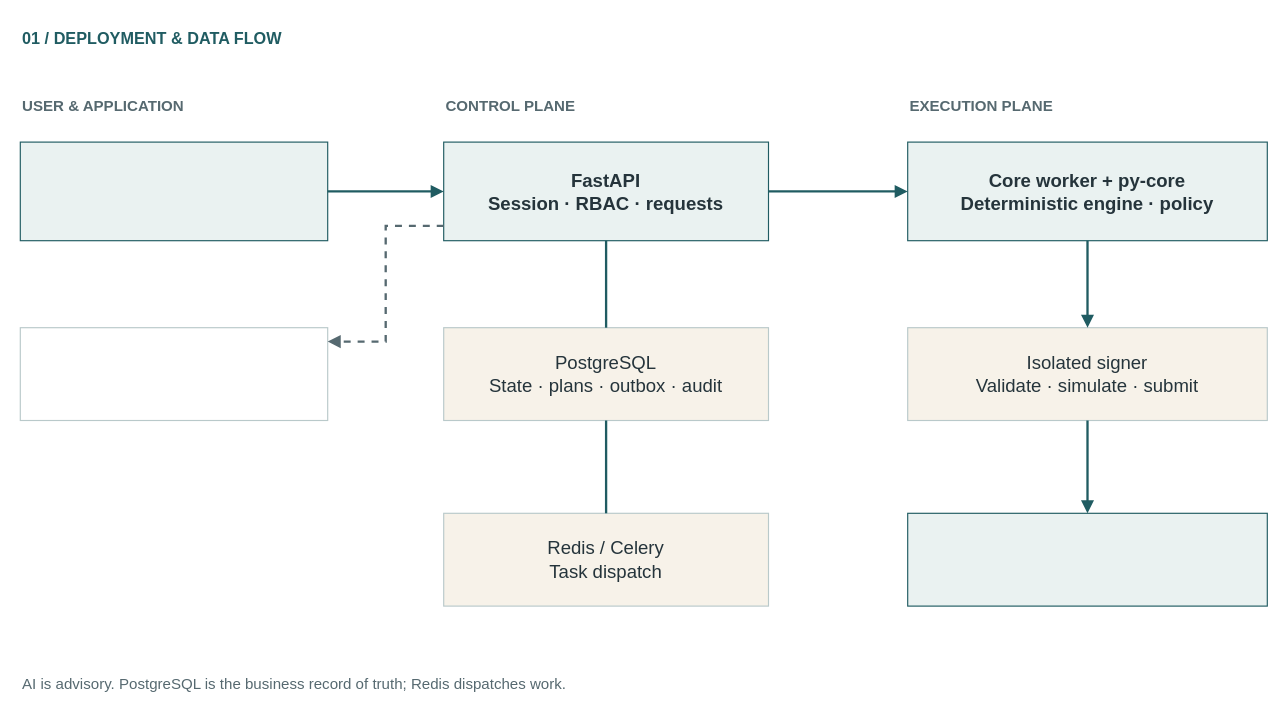
This 1288x728 diagram has some shape labels left out. The shapes that lost their labels are listed below. From the top down, each one's centre as x and y in pixels, then its label:
At point 173,191: "Browser / React Connected wallet".
At point 173,373: "AI worker Read-only tools · proposals".
At point 1087,559: "TreasuryPilotModule + Safes Aave / EAS integrations".
